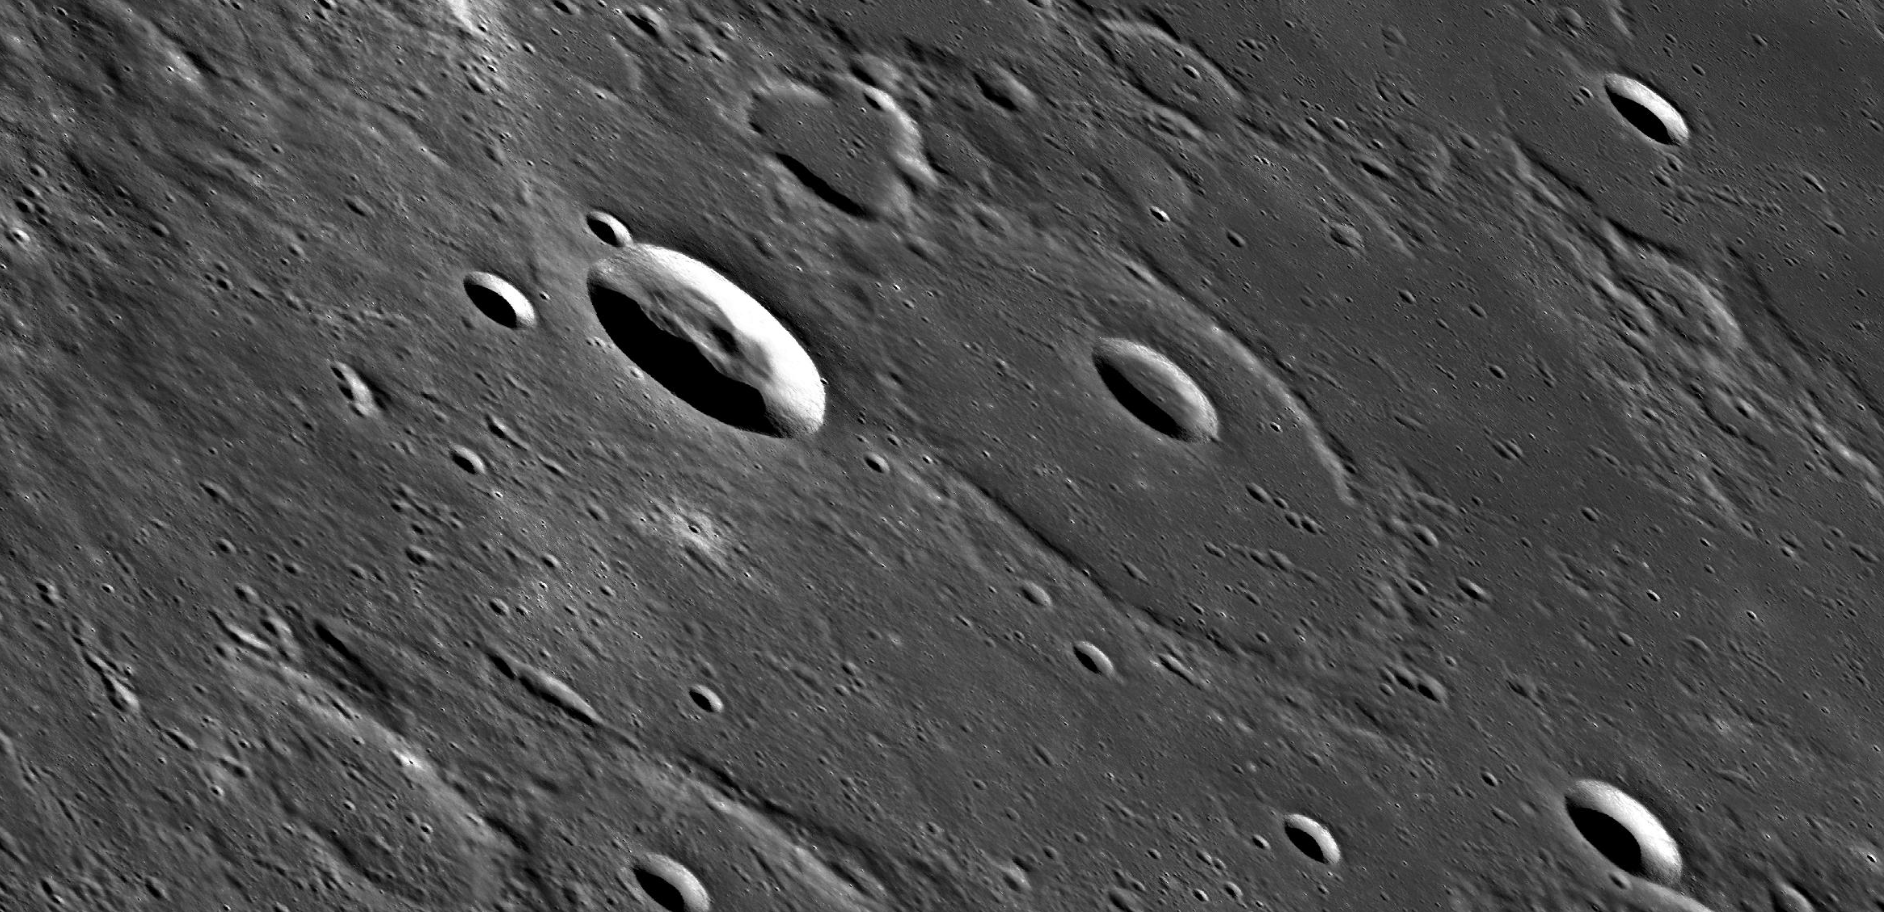crater: (1035, 287, 1262, 513), (729, 50, 984, 244), (1528, 722, 1734, 898), (1060, 7, 1278, 169), (1576, 40, 1712, 184), (1266, 752, 1399, 893), (421, 255, 547, 350), (1004, 567, 1072, 620)
